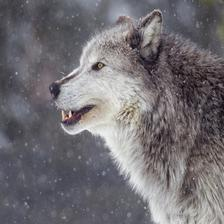WOLF: (49, 15, 224, 192)
